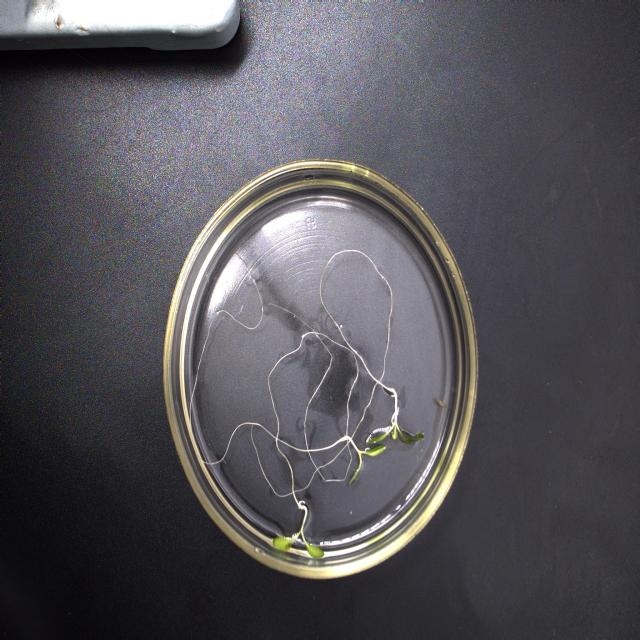leaf: (349, 421, 423, 484)
root: (182, 246, 397, 505)
steb: (379, 380, 403, 423)
